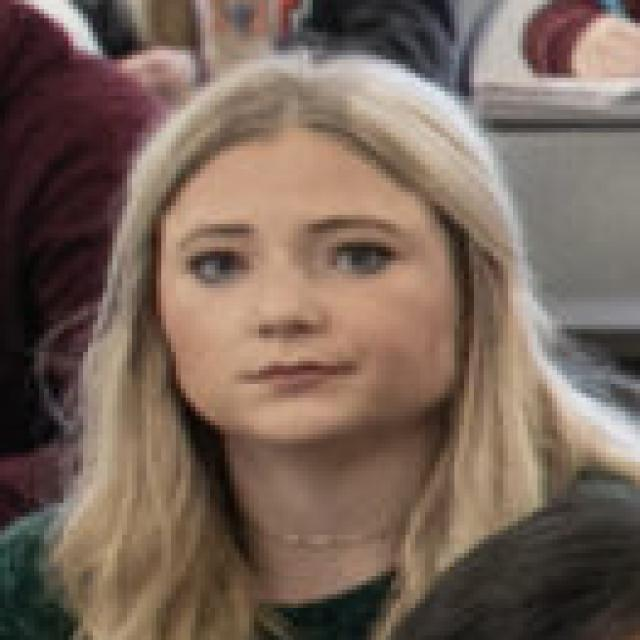Attentive: (156, 122, 462, 451)
